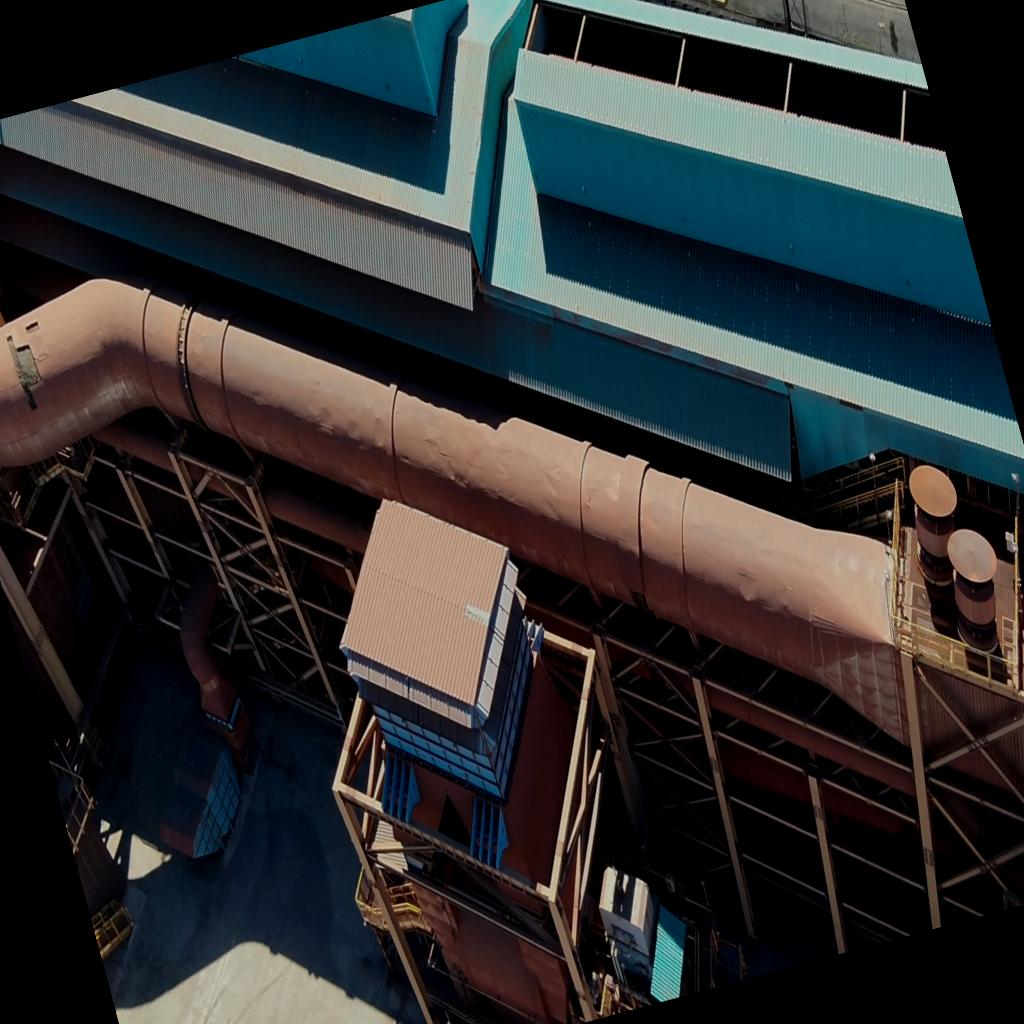Failures: (0, 320, 46, 411), (18, 308, 44, 344)
